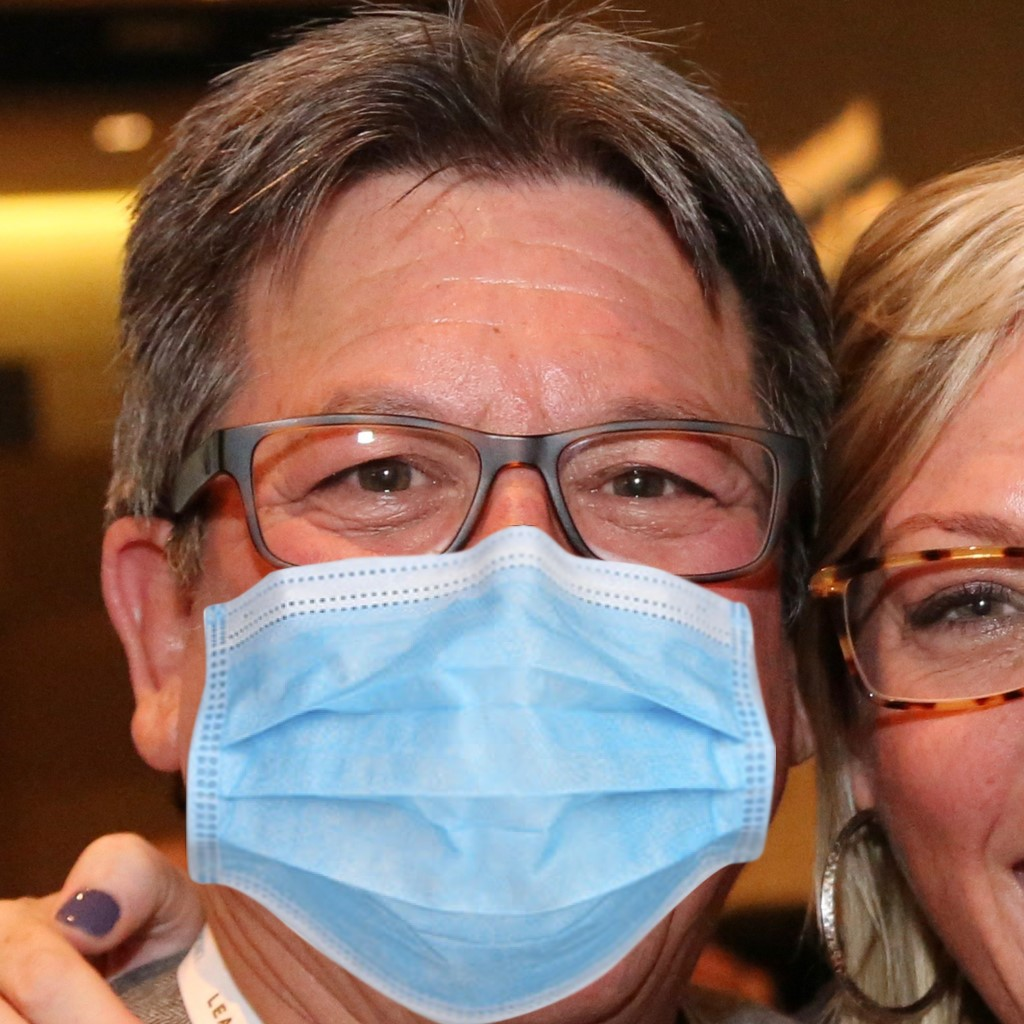con_mascara: (149, 97, 797, 1005)
